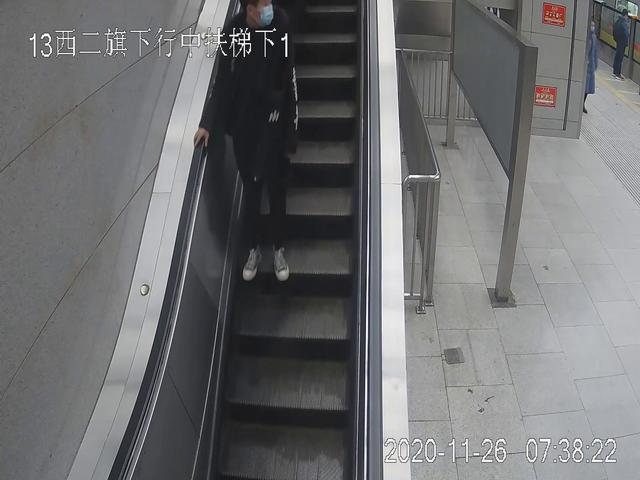person: (193, 1, 301, 283), (611, 10, 630, 81)
